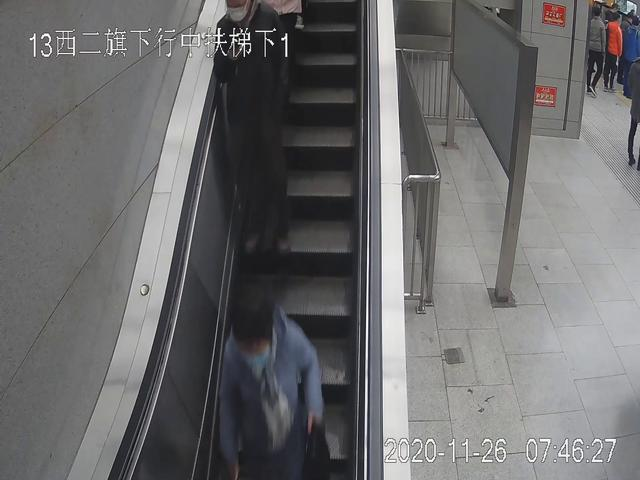person: (209, 1, 297, 262), (221, 290, 323, 480), (584, 6, 607, 95), (603, 12, 622, 91)
